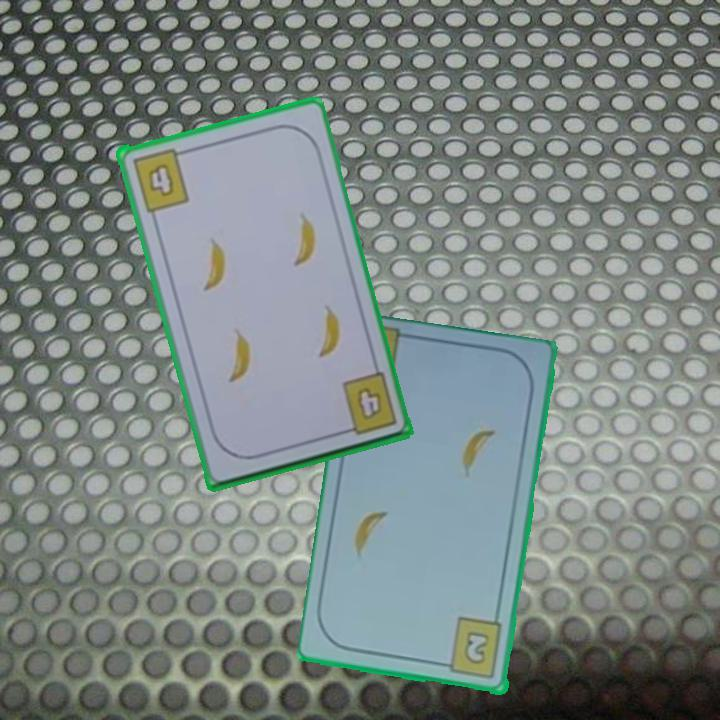2b: (437, 615, 506, 682)
4b: (128, 144, 192, 214), (352, 383, 384, 423)
